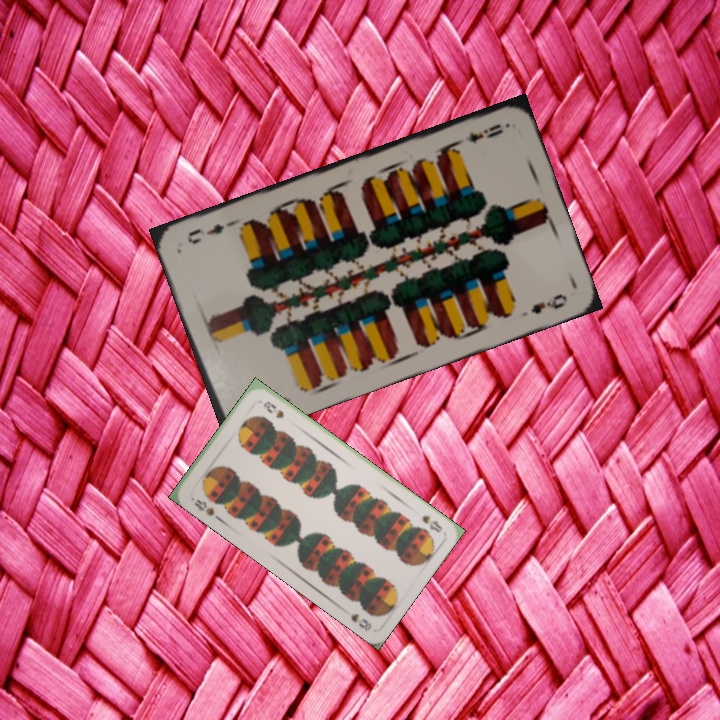E9: (461, 120, 506, 147)
S8: (190, 495, 221, 522), (418, 511, 445, 535)
